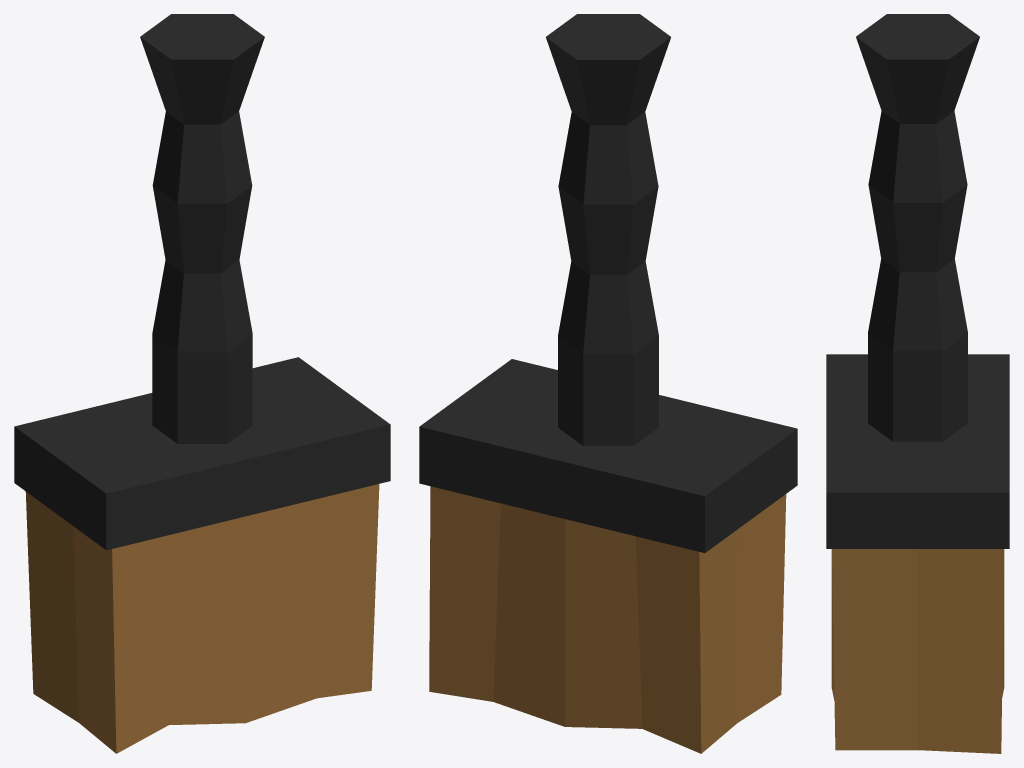
Rendered from tools_brush-square.fbx.
The picture shows the model from 3 angles, left to right: view 1: azimuth 30°, elevation 25°; view 2: azimuth 150°, elevation 25°; view 3: azimuth 270°, elevation 25°; orthographic projection.
Visible parts, largest first — view 1: tools_brush_square; view 2: tools_brush_square; view 3: tools_brush_square.
Boxes of the visible parts, x1=… form: tools_brush_square: x1=14, y1=14, x2=390, y2=753; tools_brush_square: x1=419, y1=14, x2=797, y2=753; tools_brush_square: x1=826, y1=14, x2=1009, y2=753.
Size of the model in its own units: 90.84 by 200 by 50.95.
